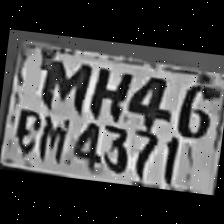1: (156, 130, 190, 187)
3: (96, 116, 134, 175)
4: (124, 69, 174, 122), (66, 112, 102, 170)
6: (168, 76, 214, 140)
7: (127, 119, 162, 182)
H: (86, 63, 130, 120)
M: (35, 55, 95, 112), (37, 107, 71, 163)
